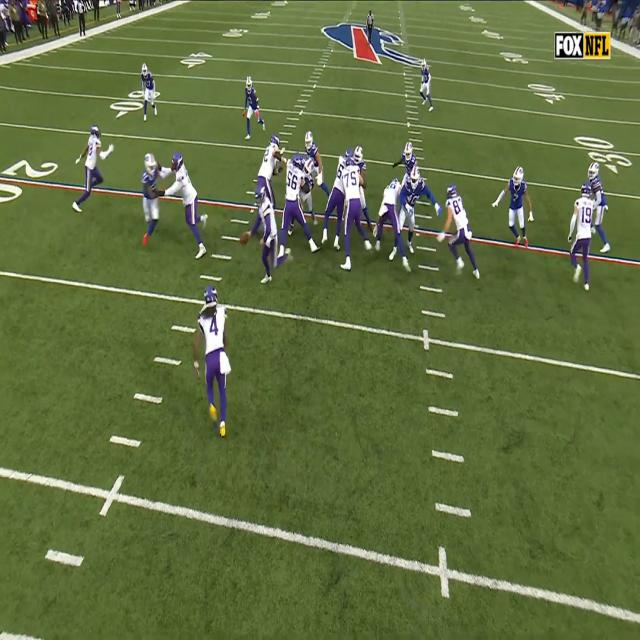football: (240, 232, 250, 245)
players: (193, 286, 230, 438), (158, 155, 209, 260), (388, 167, 442, 259), (277, 154, 321, 258), (249, 185, 295, 284), (436, 185, 481, 278), (73, 124, 116, 213), (340, 159, 372, 270), (492, 166, 535, 247), (375, 179, 411, 274), (321, 150, 353, 250), (568, 181, 596, 292), (142, 153, 175, 247), (585, 162, 611, 254), (258, 136, 287, 212), (305, 131, 329, 199), (242, 76, 265, 140), (140, 63, 157, 123), (393, 142, 417, 184), (419, 60, 434, 113)
